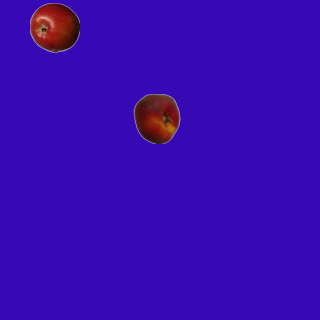Apple Braeburn: (29, 2, 79, 52)
Nectarine Flat: (131, 93, 181, 143)
